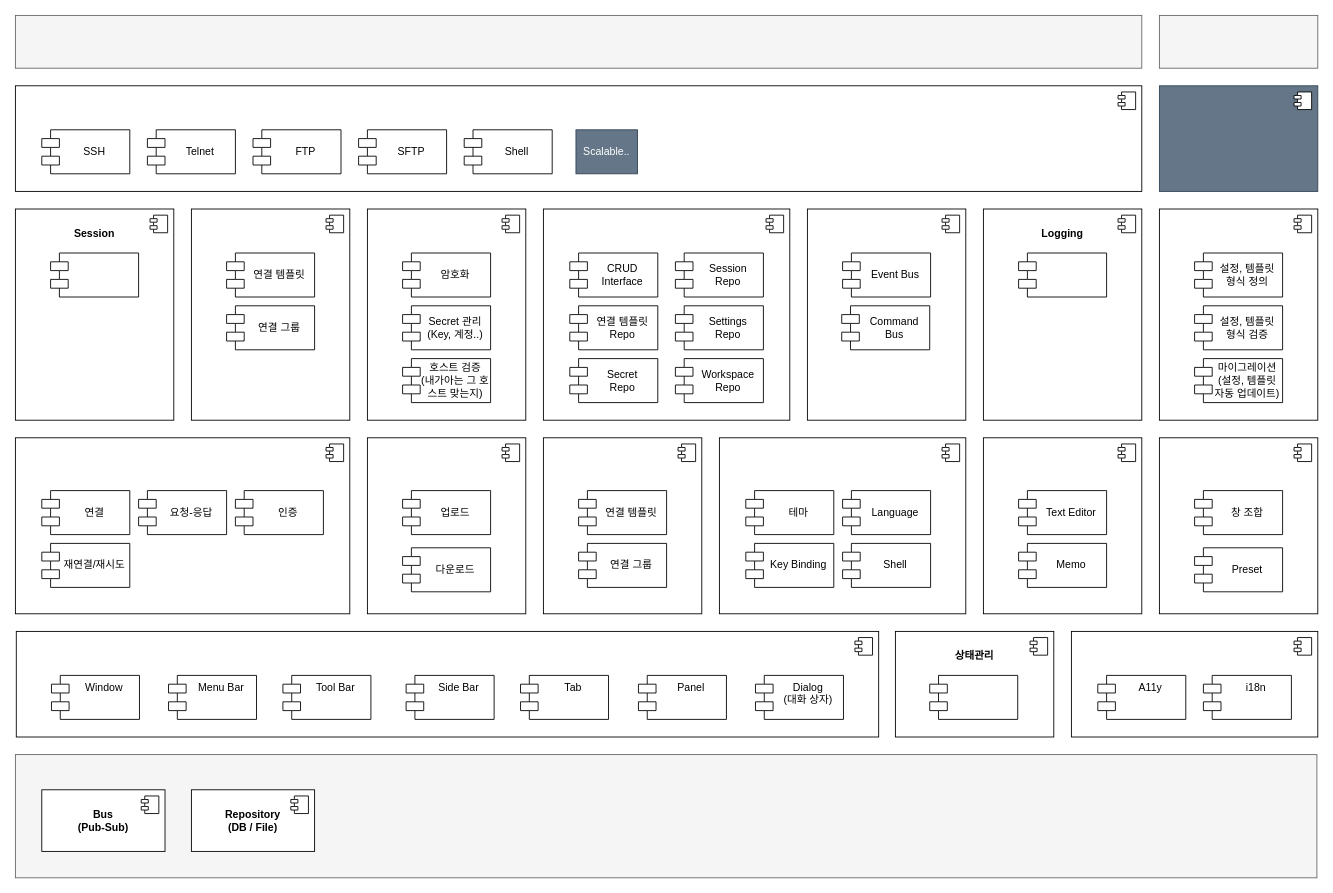
Some shapes in this 1333 by 893 pixel diagram are drawn without their labels. Each missing label, with the box of its shape:
Browser: (1159, 85, 1318, 191)
Connection Service: (15, 437, 350, 614)
Connection Template: (191, 208, 350, 420)
Event/Command Bus: (807, 208, 966, 420)
Feature Extension: (983, 437, 1142, 614)
Infra: (15, 754, 1317, 878)
Internet: (1159, 15, 1318, 68)
MVVM / Redux-like / ...: (929, 675, 1018, 719)
Protocol Adapter Plugin: (15, 85, 1142, 191)
Schema & Migration: (1159, 208, 1318, 420)
Security: (367, 208, 526, 420)
Server (Remote / Host): (15, 15, 1142, 68)
Settings: (719, 437, 966, 614)
Storage: (543, 208, 790, 420)
Transfer Service: (367, 437, 526, 614)
UI / Presentation: (15, 631, 879, 737)
Workspace: (1159, 437, 1318, 614)
로그 수집: (1018, 252, 1107, 297)
세션 라이프사이클: (50, 252, 139, 297)
연결 템플릿 서비스: (543, 437, 702, 614)
접근성: (1071, 631, 1318, 737)
